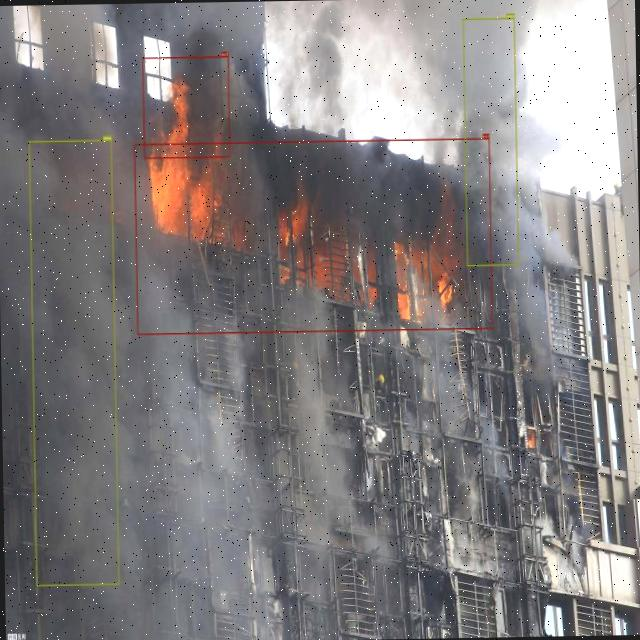fire: (134, 138, 492, 334), (142, 56, 230, 158)
smoke: (28, 140, 119, 586), (462, 17, 518, 266)
